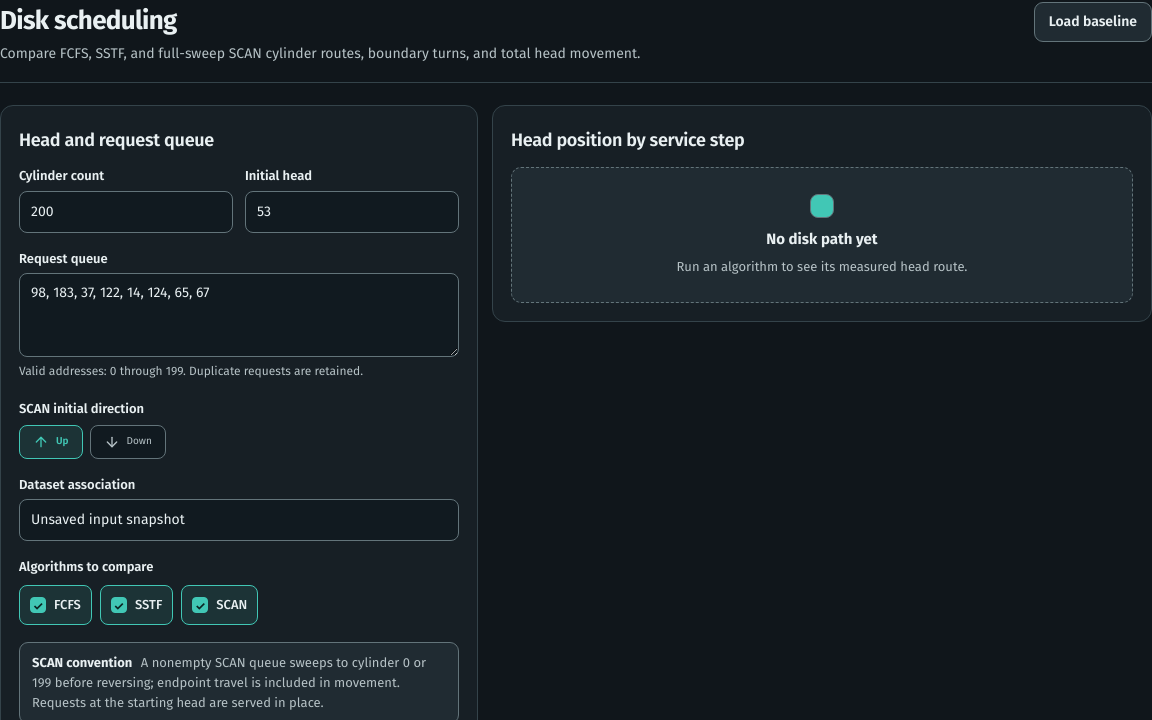
Scenario: disk route presentation › shows a boundary request as both a request stop and the SCAN endpoint
Replace the text in the number field labelled "Cylinder count" with "100" at (126, 212), box 19,191 -> 233,233
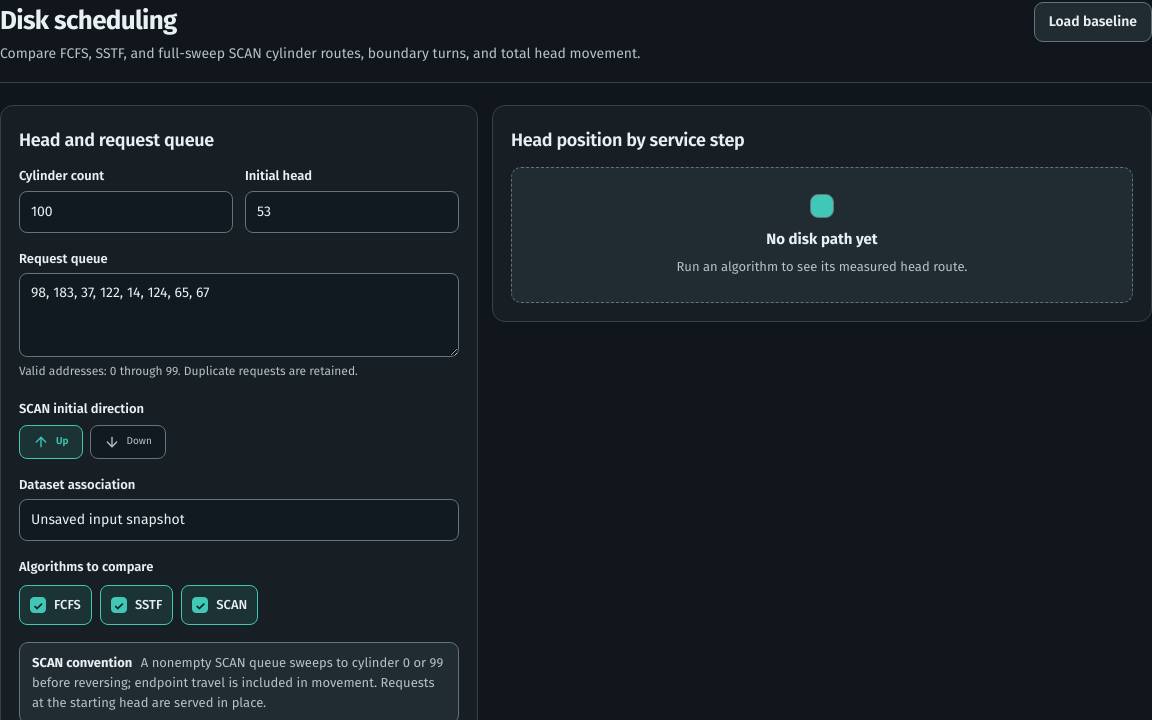
Replace the text in the number field labelled "Initial head" with "50" at (352, 212), box 245,191 -> 459,233
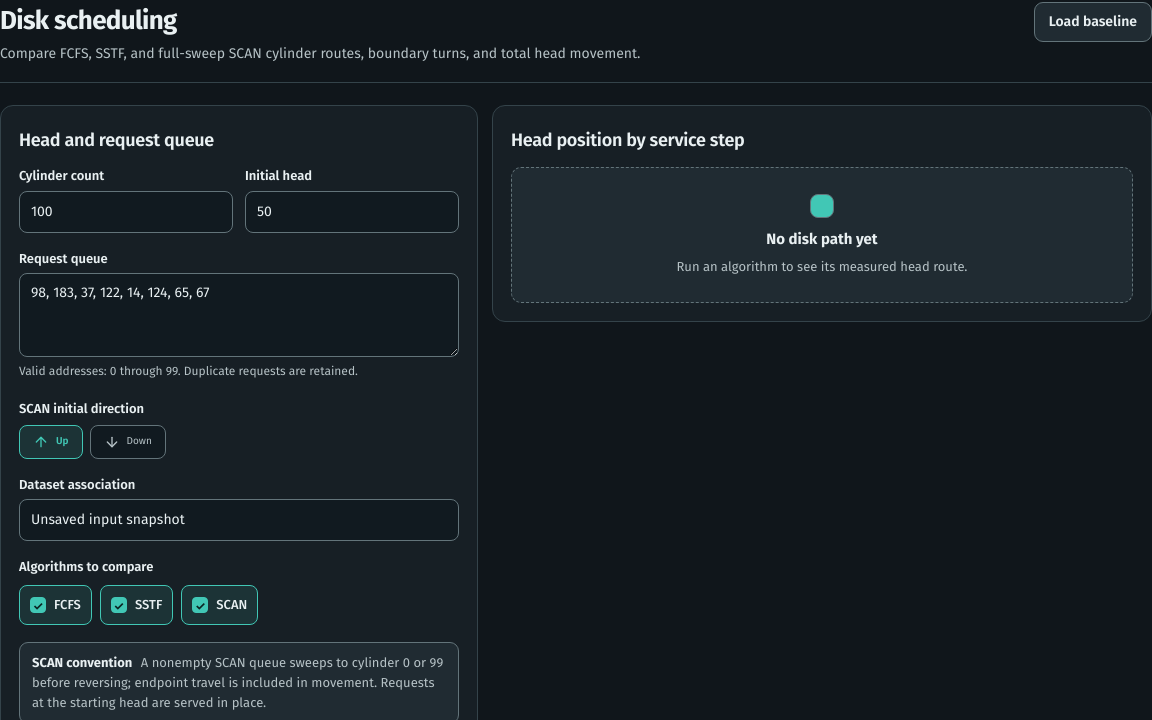
Replace the text in the text box with placeholder "98, 183, 37, 122" with "0, 99" at (239, 315), box 19,273 -> 459,357
(page scrolled)
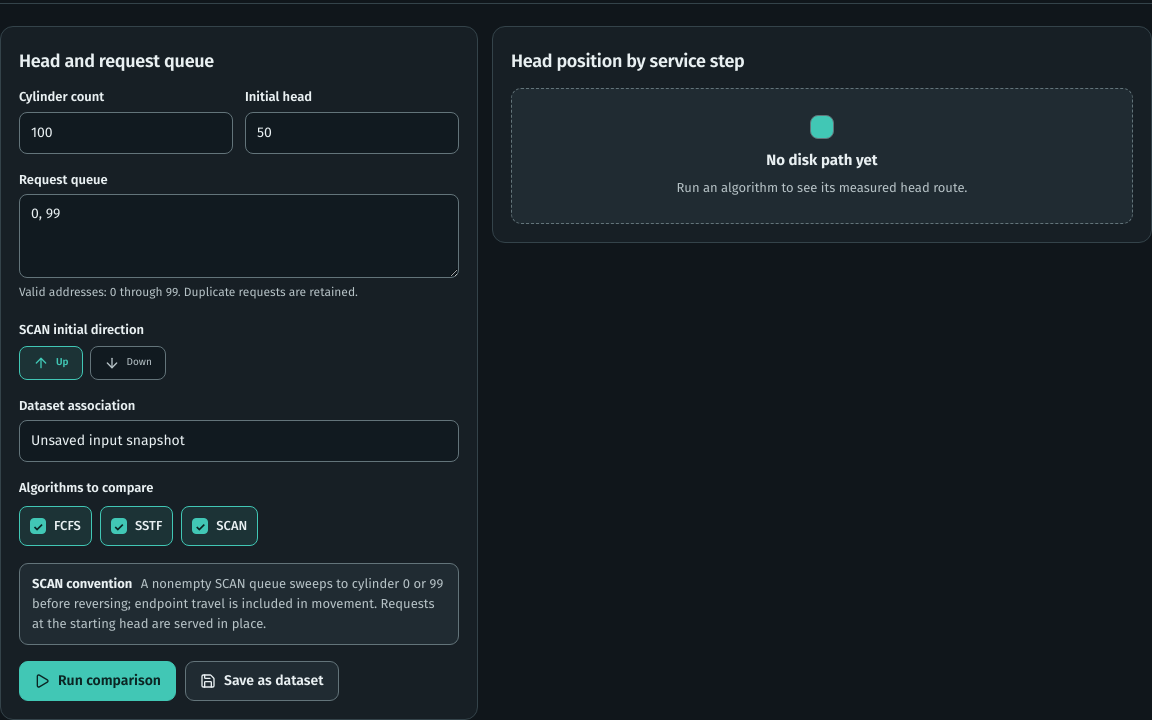
Click the button "Run comparison" at (98, 681), box 19,661 -> 176,701
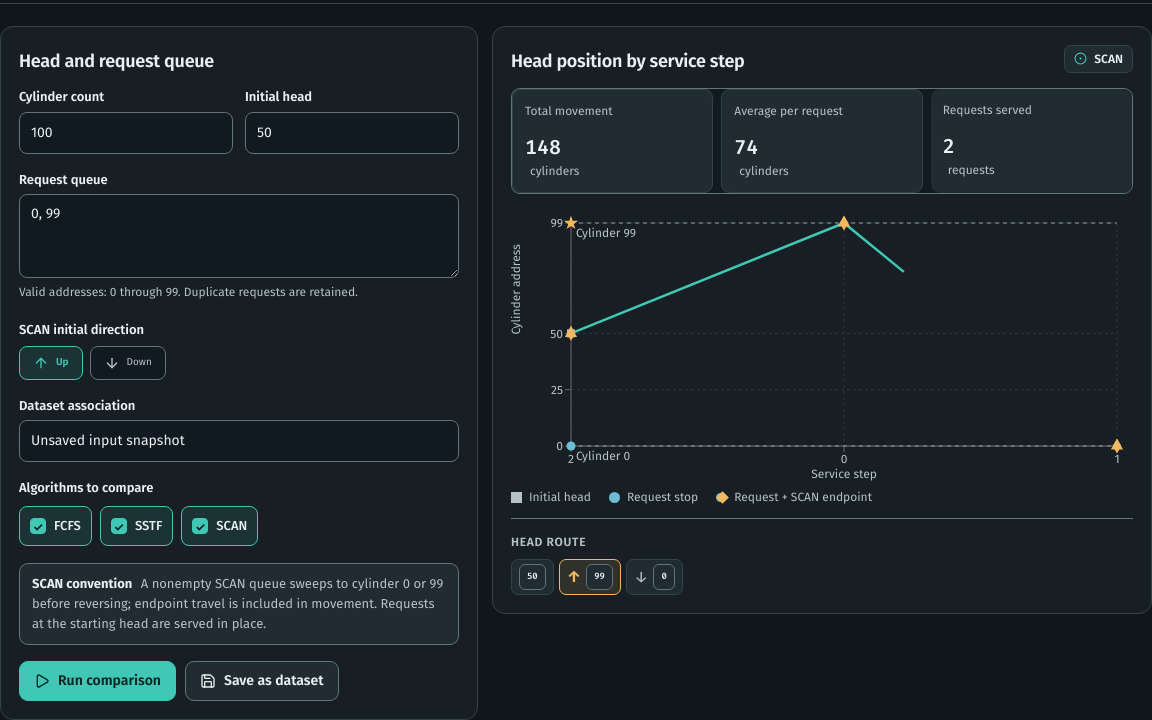
Result: the element named "Disk head service route" is shown at 511,518 -> 1133,595
Result: the text "99" is shown at 586,564 -> 613,590
Result: the list item "Request + SCAN endpoint" is shown at 716,488 -> 872,506
